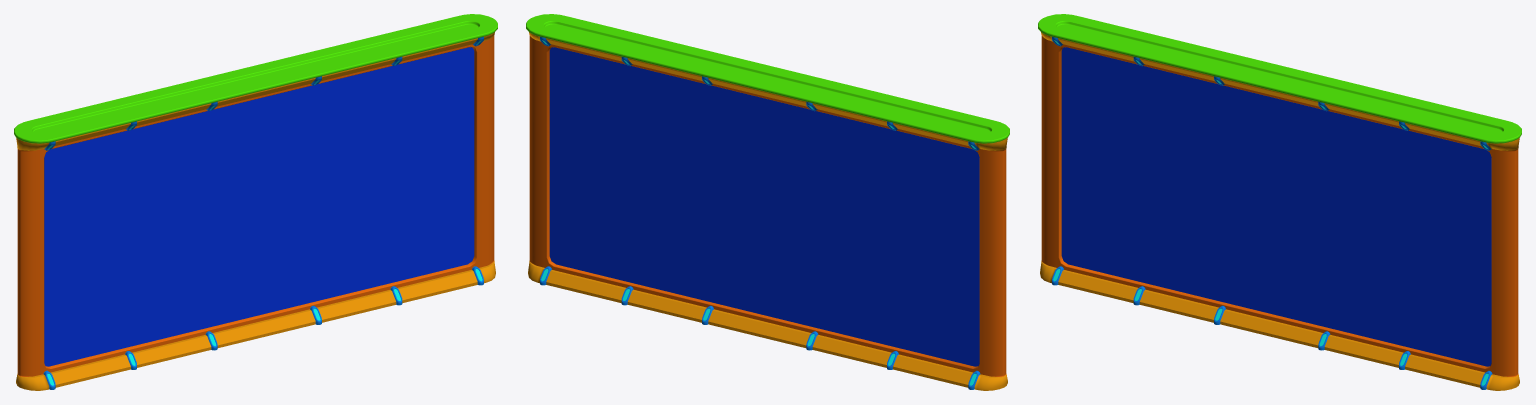
Rendered from SM_NewWall_Prototype.fbx.
3 views of the same model, side by side, from view 1: azimuth 30°, elevation 25°; view 2: azimuth 150°, elevation 25°; view 3: azimuth 330°, elevation 25° (orthographic).
Parts seen in each view (by area): view 1: Wall_low; view 2: Wall_low; view 3: Wall_low.
Boxes of the visible parts, x1=… form: Wall_low: x1=14, y1=14, x2=497, y2=390; Wall_low: x1=526, y1=14, x2=1009, y2=390; Wall_low: x1=1038, y1=14, x2=1521, y2=390.
Bounding box in the file's own units: 710 × 357 × 64.84.
